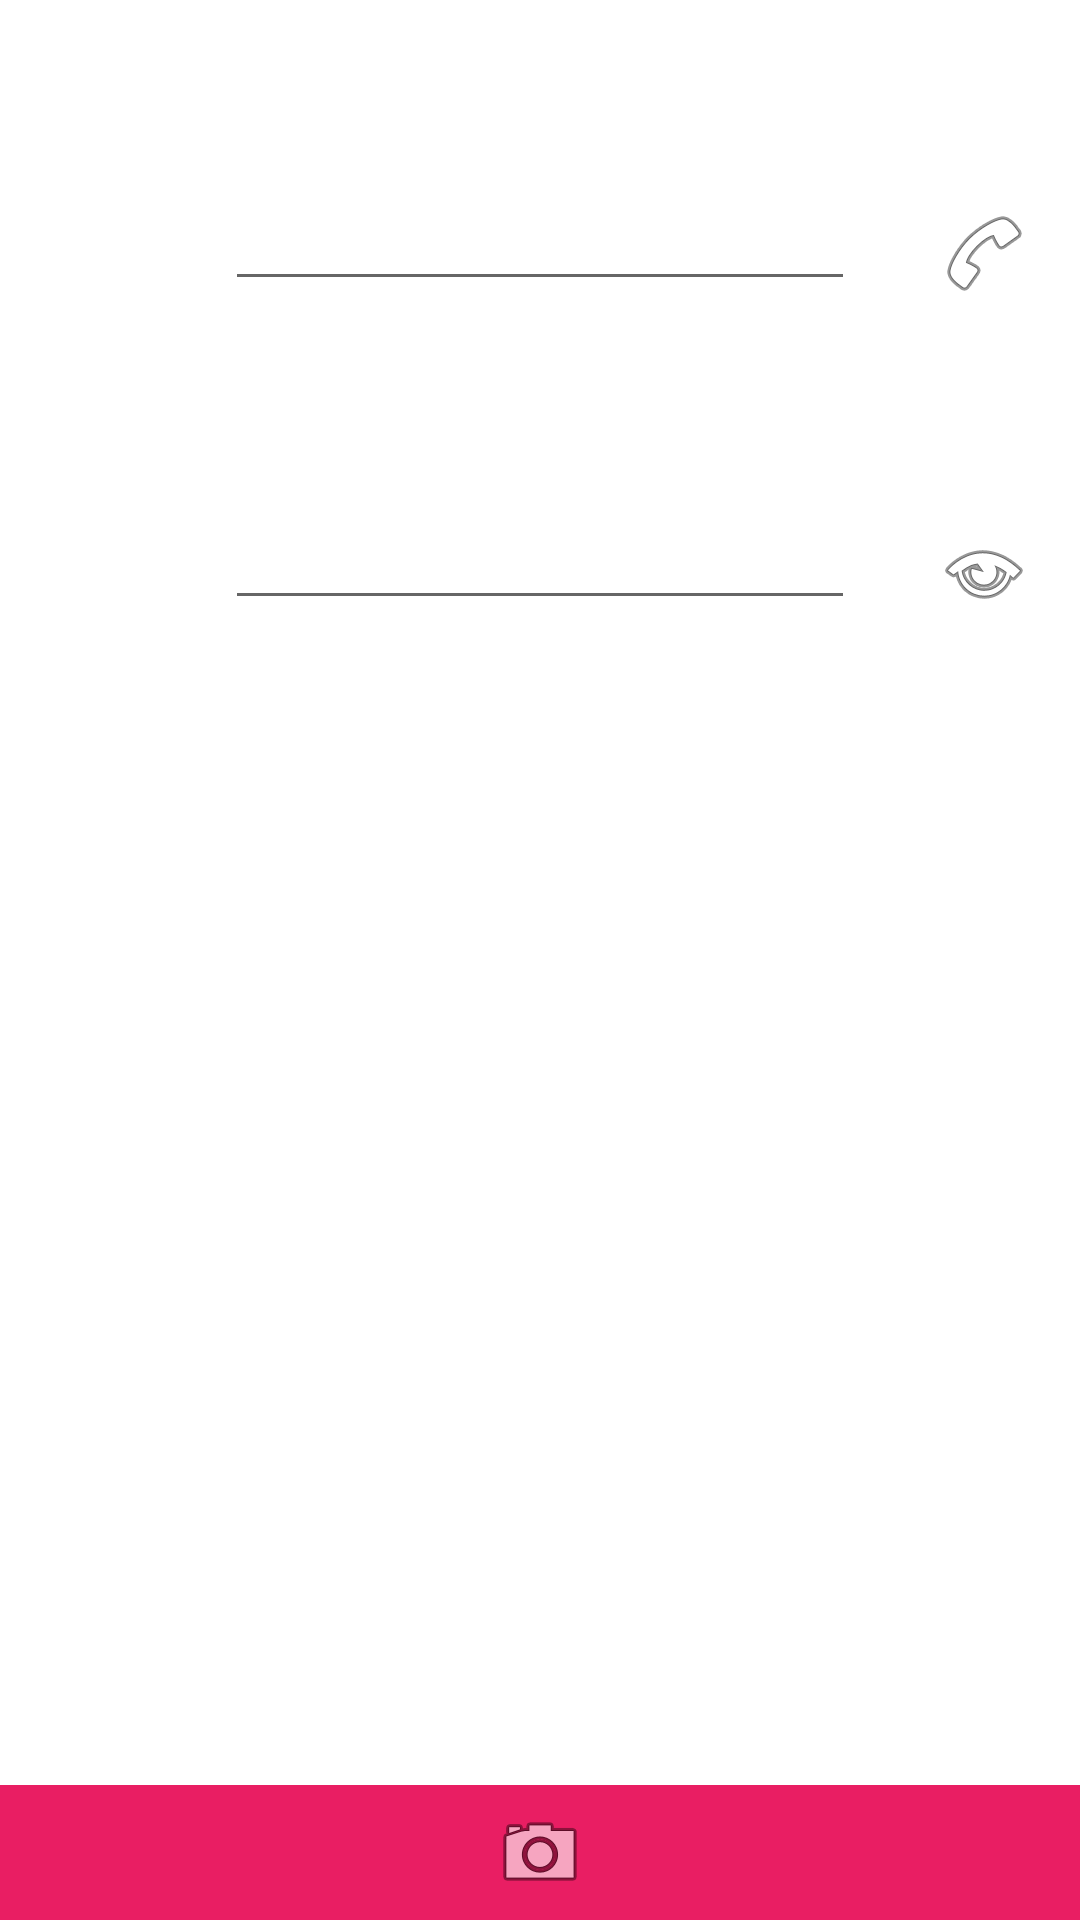

Where icons sit on this 1080 x 1920 app screen, as rect(x1, y1, x2, y2):
call: rect(947, 216, 1022, 291)
view: rect(945, 550, 1023, 599)
